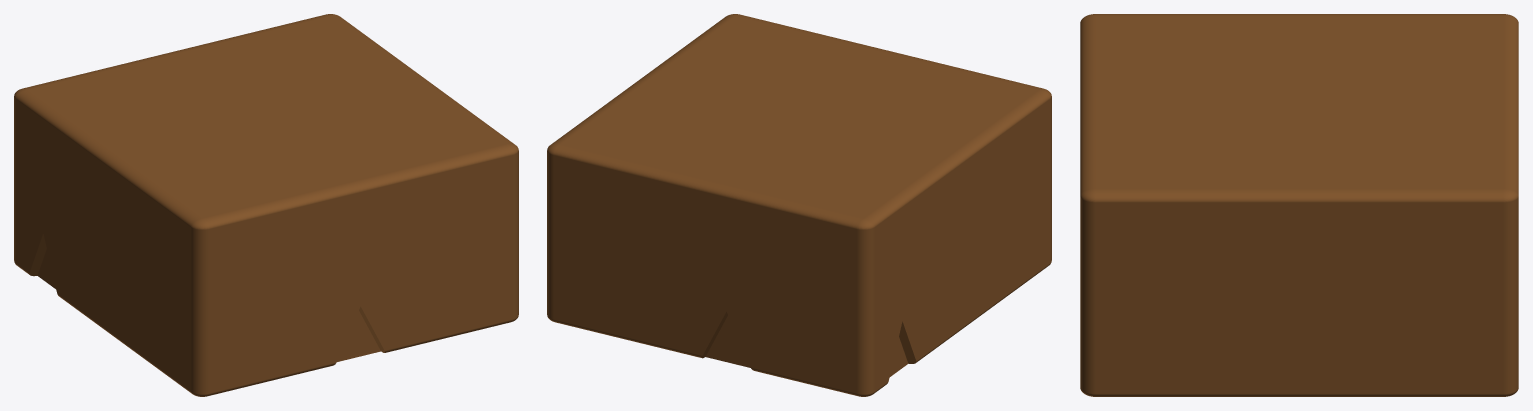
File: shirtShoulderRagged.fbx
3 renders of one model, left to right at view 1: azimuth 30°, elevation 25°; view 2: azimuth 150°, elevation 25°; view 3: azimuth 270°, elevation 25°, orthographic. The views are drawn at different scales.
Parts seen in each view (by area): view 1: Upper Right Arm.001; view 2: Upper Right Arm.001; view 3: Upper Right Arm.001.
Part boxes in pixels (x1,y1,x2,y2): Upper Right Arm.001: [14, 14, 518, 396]; Upper Right Arm.001: [547, 14, 1051, 396]; Upper Right Arm.001: [1080, 14, 1518, 396].
Size of the model in its own units: 101 by 52.22 by 101.
